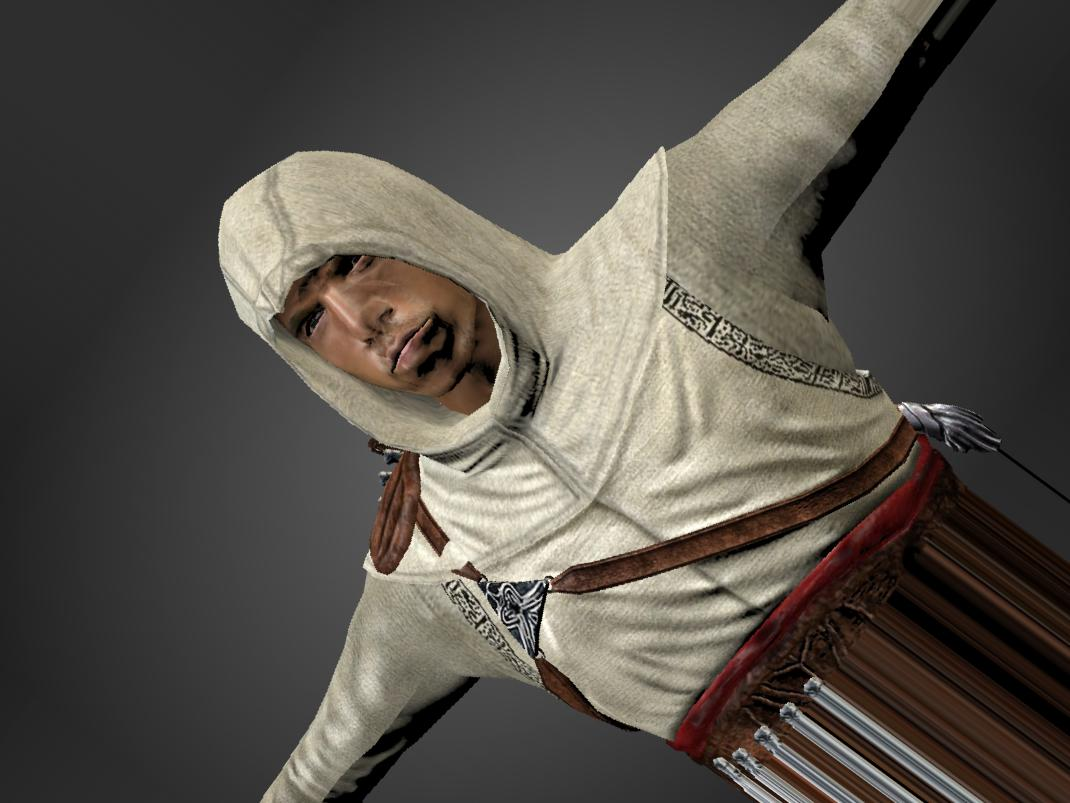clip: (431, 537, 479, 579)
